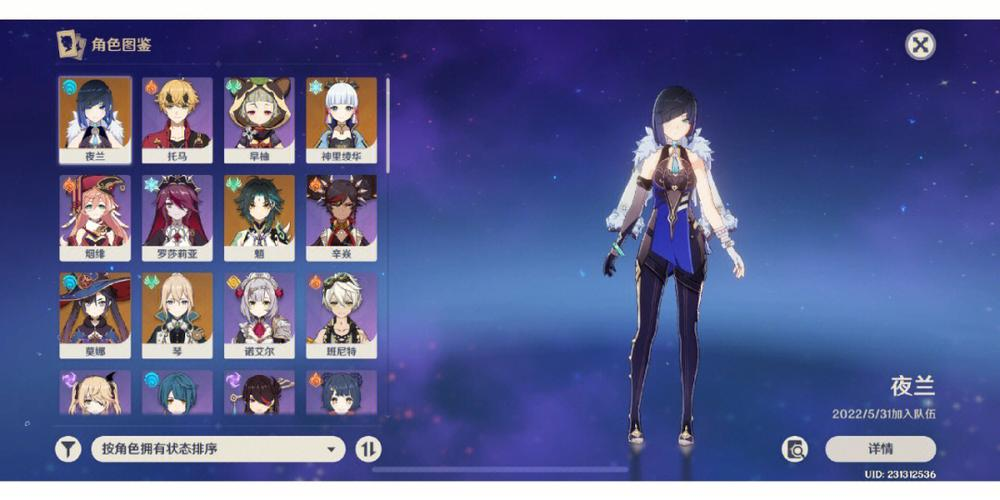夜兰: (598, 85, 750, 454), (65, 79, 127, 151)
